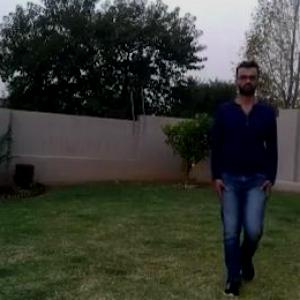follow: (211, 76, 274, 270)
